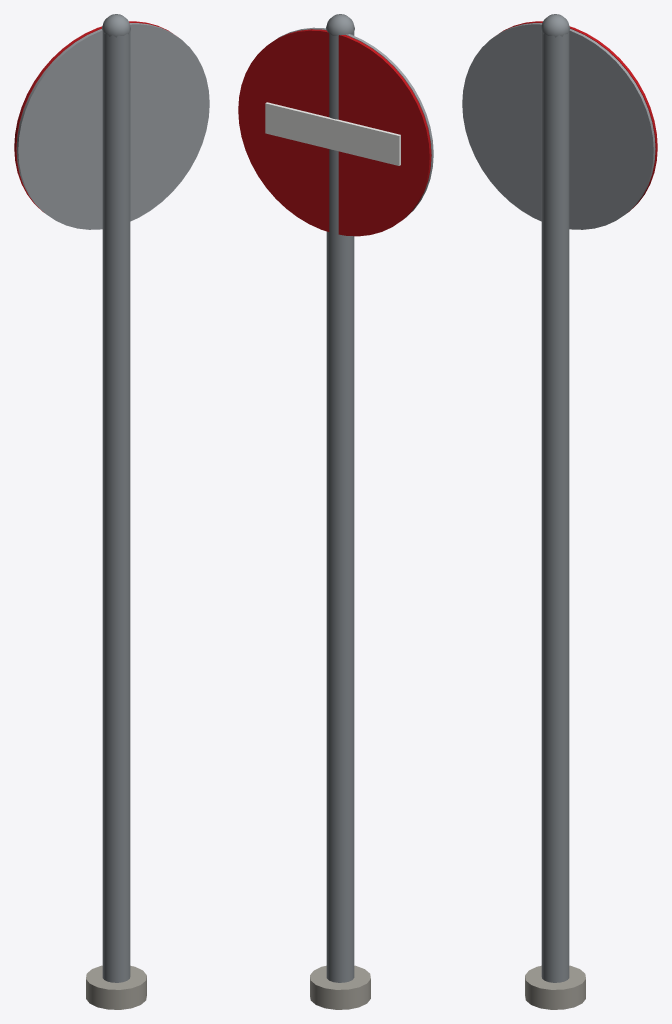
The model's file is Sign_NoEntry.fbx.
The picture shows the model from 3 angles, left to right: view 1: azimuth 30°, elevation 25°; view 2: azimuth 150°, elevation 25°; view 3: azimuth 330°, elevation 25°; orthographic projection.
Parts seen in each view (by area): view 1: Sign_NoEntry_Mesh; view 2: Sign_NoEntry_Mesh; view 3: Sign_NoEntry_Mesh.
Boxes of the visible parts, x1,y1,x2,y2 form: Sign_NoEntry_Mesh: (14, 14, 209, 1009); Sign_NoEntry_Mesh: (238, 14, 433, 1009); Sign_NoEntry_Mesh: (462, 14, 657, 1009).
Bounding box in the file's own units: 0.6 × 2.94 × 0.1672.
